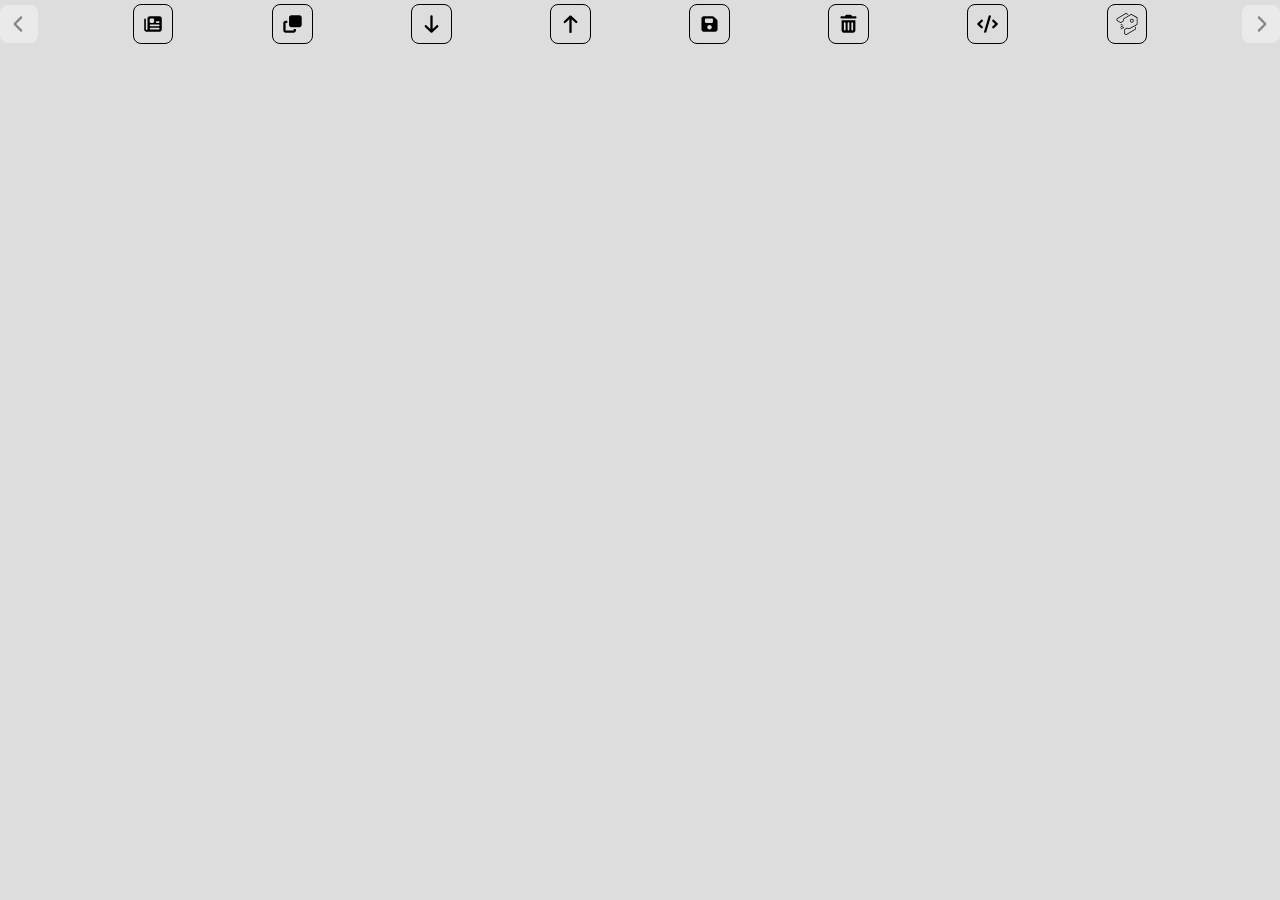
Test case: OptionenFrameTextbild2 › schließt den Dialog mit der Escape-Taste
Click the button named "Löschen" at (849, 24), box [828,4,869,44]
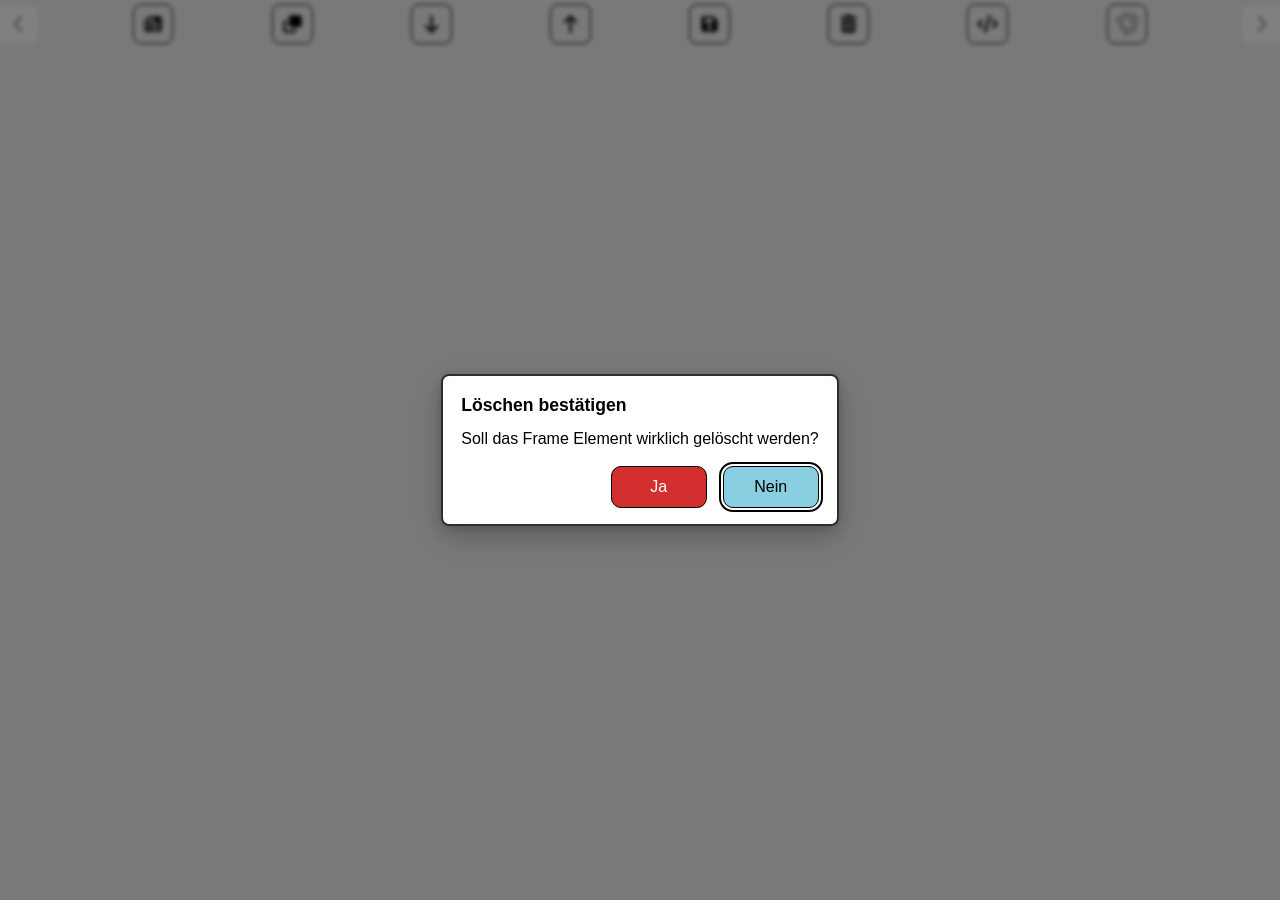
Press Escape in the dialog, box [441,374,839,526]
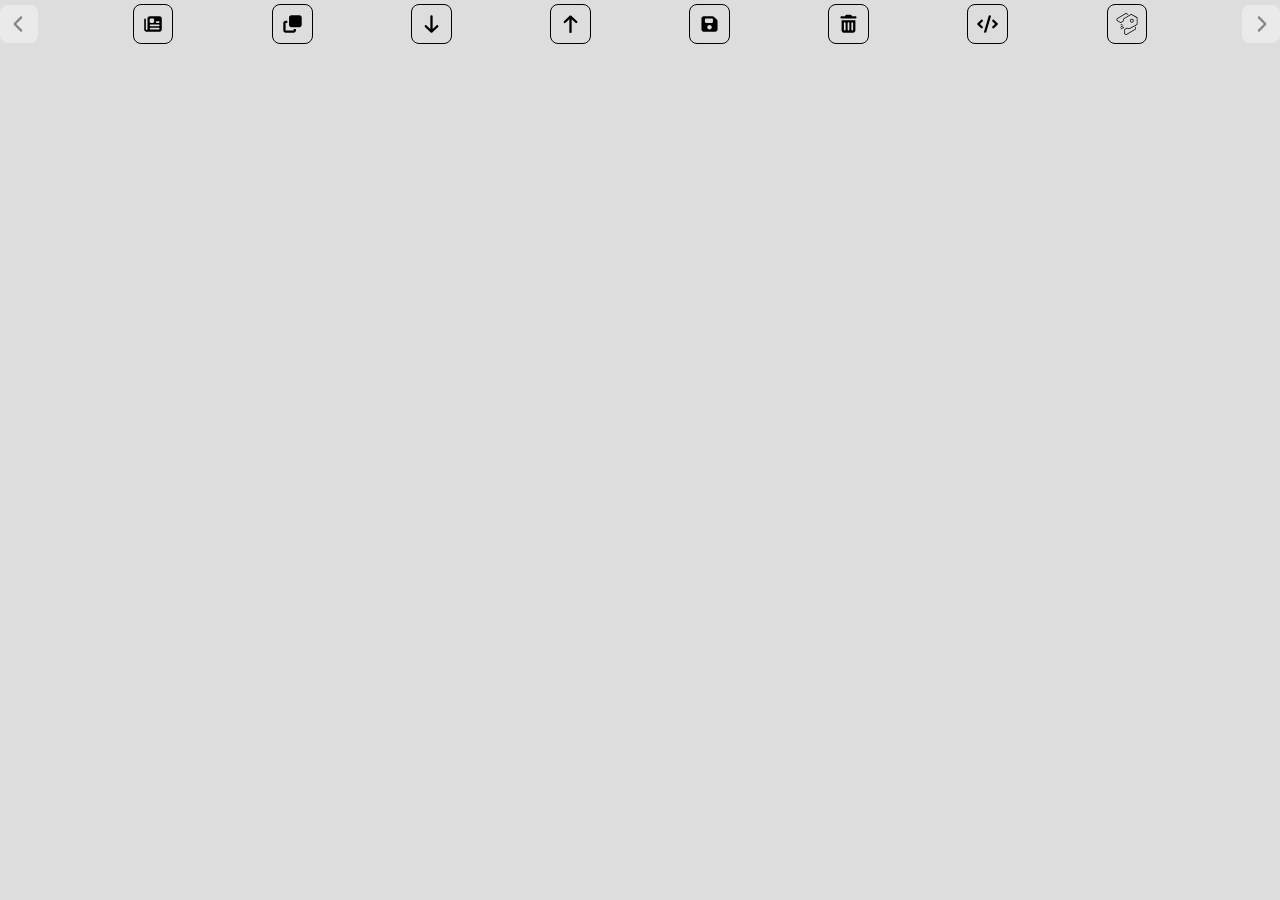
Result: the dialog is gone
